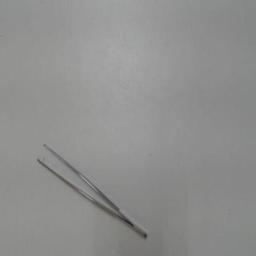Gillies Toothed Dissector: (30, 135, 152, 243)
